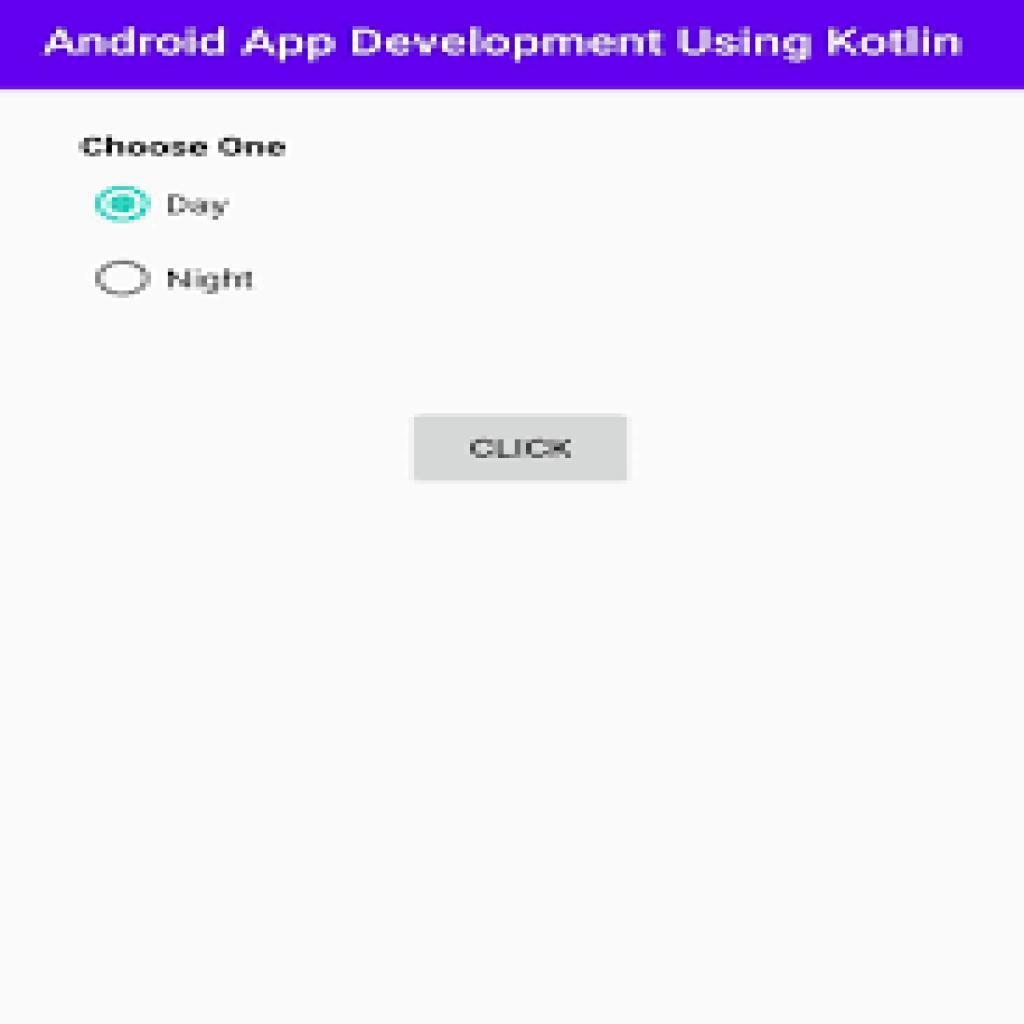button: (410, 415, 626, 482)
label: (84, 131, 296, 166), (164, 267, 263, 300), (164, 190, 234, 230)
radio: (93, 184, 154, 228), (92, 258, 153, 298)
